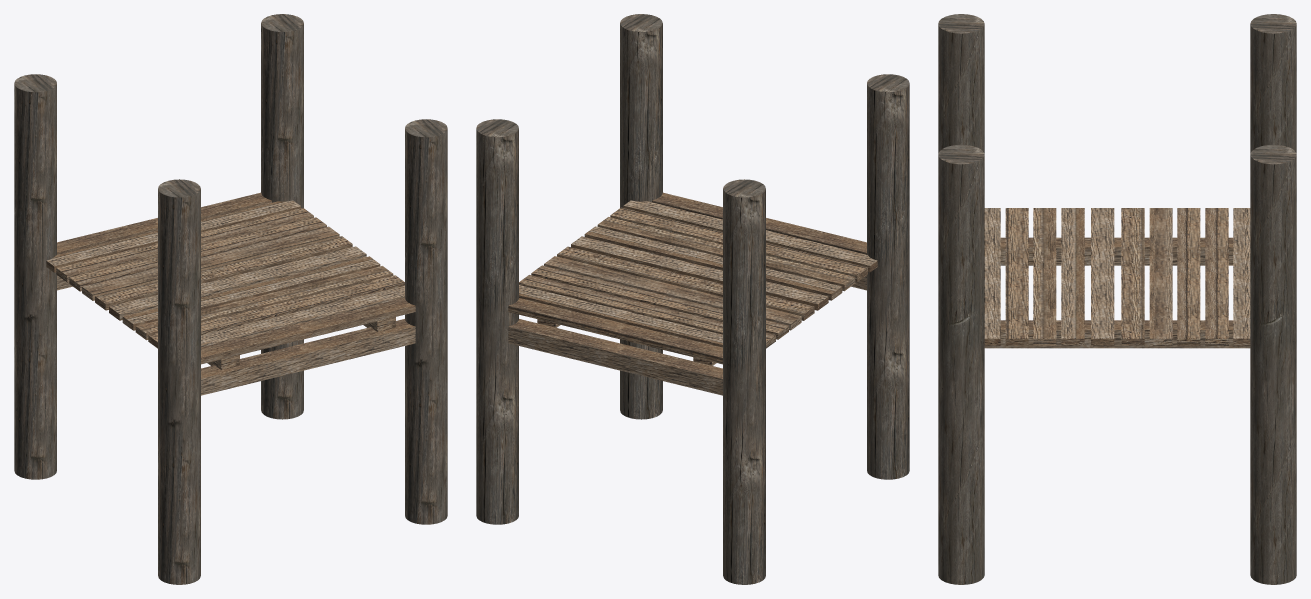
The model's file is puente.fbx.
3 renders of one model, left to right at view 1: azimuth 30°, elevation 25°; view 2: azimuth 150°, elevation 25°; view 3: azimuth 270°, elevation 25°, orthographic. The views are drawn at different scales.
Parts seen in each view (by area): view 1: Viga, Cube.015, Cylinder.003, Cylinder.002; view 2: Cube.015, Viga, Cylinder.003, Cylinder.002, Cube.014; view 3: Cube.015, Viga, Cylinder.002, Cylinder.003.
Boxes of the visible parts, x1=… form: Viga: x1=158, y1=119, x2=447, y2=584; Cube.015: x1=46, y1=192, x2=415, y2=369; Cylinder.003: x1=14, y1=74, x2=56, y2=479; Cylinder.002: x1=261, y1=14, x2=303, y2=419; Cube.015: x1=508, y1=192, x2=877, y2=365; Viga: x1=620, y1=14, x2=909, y2=479; Cylinder.003: x1=723, y1=179, x2=765, y2=584; Cylinder.002: x1=476, y1=119, x2=518, y2=524; Cube.014: x1=508, y1=319, x2=722, y2=395; Cube.015: x1=984, y1=208, x2=1250, y2=348; Viga: x1=938, y1=14, x2=984, y2=584; Cylinder.002: x1=1250, y1=144, x2=1296, y2=584; Cylinder.003: x1=1250, y1=14, x2=1296, y2=153.
Bounding box in the file's own units: 460 × 600 × 464.
Materials: 2 (2 with a texture image).
